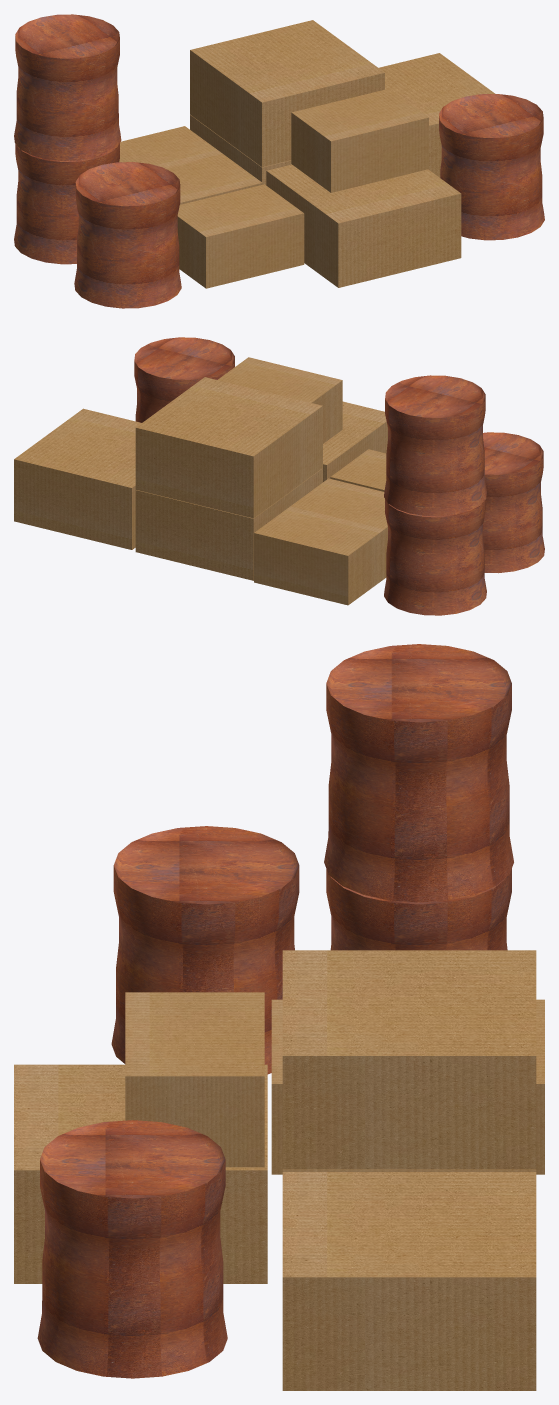
File: Caixas e Barris.fbx
The picture shows the model from 3 angles, top to bottom: view 1: azimuth 30°, elevation 25°; view 2: azimuth 150°, elevation 25°; view 3: azimuth 270°, elevation 25°; orthographic projection. The views are drawn at different scales.
Visible parts, largest first — view 1: pasted__pasted__pCube1pasted__group4group5, pCube1, pasted__pCylinder1group1, pasted__pasted__pasted__pCylinder1pasted__pasted__group1past, pCylinder1, pasted__pasted__pCube1pasted__groupgroup7, pasted__pCube1group, pasted__pasted__pCylinder1pasted__group1group2, pasted__pasted__pasted__pCube1pasted__pasted__group4pasted__, pasted__pasted__pasted__pCube1pasted__pasted__grouppasted__g, pasted__pasted__pCube1pasted__groupgroup8, pasted__pCube1group4; view 2: pasted__pasted__pCube1pasted__group4group5, pasted__pasted__pasted__pCube1pasted__pasted__group4pasted__, pasted__pasted__pasted__pCylinder1pasted__pasted__group1past, pasted__pasted__pasted__pCube1pasted__pasted__grouppasted__g, pasted__pasted__pCylinder1pasted__group1group2, pasted__pCube1group4, pasted__pCylinder1group1, pCylinder1, pasted__pasted__pCube1pasted__groupgroup7, pasted__pasted__pCube1pasted__groupgroup8, pCube1, pasted__pCube1group; view 3: pasted__pasted__pCube1pasted__group4group5, pasted__pasted__pasted__pCube1pasted__pasted__group4pasted__, pCylinder1, pasted__pasted__pasted__pCylinder1pasted__pasted__group1past, pasted__pCylinder1group1, pasted__pasted__pCube1pasted__groupgroup7, pCube1, pasted__pasted__pCylinder1pasted__group1group2, pasted__pasted__pCube1pasted__groupgroup8, pasted__pasted__pasted__pCube1pasted__pasted__grouppasted__g.
Part boxes in pixels (box(x1,y1,x2,y2)): pasted__pasted__pCube1pasted__group4group5: box(190, 20, 384, 167); pCube1: box(266, 164, 461, 287); pasted__pCylinder1group1: box(74, 162, 181, 308); pasted__pasted__pasted__pCylinder1pasted__pasted__group1past: box(14, 14, 121, 160); pCylinder1: box(439, 94, 544, 240); pasted__pasted__pCube1pasted__groupgroup7: box(291, 88, 428, 192); pasted__pCube1group: box(177, 184, 304, 288); pasted__pasted__pCylinder1pasted__group1group2: box(14, 143, 119, 264); pasted__pasted__pasted__pCube1pasted__pasted__group4pasted__: box(379, 53, 495, 177); pasted__pasted__pasted__pCube1pasted__pasted__grouppasted__g: box(119, 126, 222, 168); pasted__pasted__pCube1pasted__groupgroup8: box(167, 154, 262, 204); pasted__pCube1group4: box(190, 115, 291, 184); pasted__pasted__pCube1pasted__group4group5: box(135, 377, 322, 518); pasted__pasted__pasted__pCube1pasted__pasted__group4pasted__: box(14, 408, 141, 549); pasted__pasted__pasted__pCylinder1pasted__pasted__group1past: box(384, 375, 486, 516); pasted__pasted__pasted__pCube1pasted__pasted__grouppasted__g: box(254, 506, 386, 605); pasted__pasted__pCylinder1pasted__group1group2: box(384, 499, 486, 615); pasted__pCube1group4: box(135, 468, 322, 580); pasted__pCylinder1group1: box(483, 432, 544, 573); pCylinder1: box(134, 337, 234, 422); pasted__pasted__pCube1pasted__groupgroup7: box(218, 357, 342, 443); pasted__pasted__pCube1pasted__groupgroup8: box(291, 478, 387, 578); pCube1: box(323, 401, 387, 481); pasted__pCube1group: box(330, 449, 386, 491); pasted__pasted__pCube1pasted__group4group5: box(282, 950, 536, 1169); pasted__pasted__pasted__pCube1pasted__pasted__group4pasted__: box(282, 1171, 536, 1390); pCylinder1: box(37, 1120, 227, 1378); pasted__pasted__pasted__pCylinder1pasted__pasted__group1past: box(324, 644, 513, 902); pasted__pCylinder1group1: box(111, 826, 299, 1074); pasted__pasted__pCube1pasted__groupgroup7: box(125, 992, 264, 1167); pCube1: box(14, 1064, 267, 1283); pasted__pasted__pCylinder1pasted__group1group2: box(326, 869, 511, 950); pasted__pasted__pCube1pasted__groupgroup8: box(271, 999, 282, 1174); pasted__pasted__pasted__pCube1pasted__pasted__grouppasted__g: box(536, 999, 544, 1174).
Bounding box in the file's own units: 17.48 × 7.6 × 10.1.
Materials: 2 (2 with a texture image).
